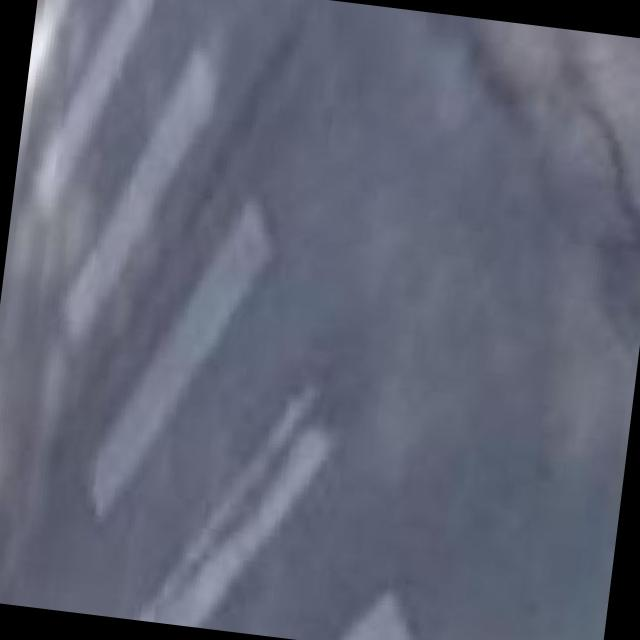zebra: (17, 0, 427, 640)
